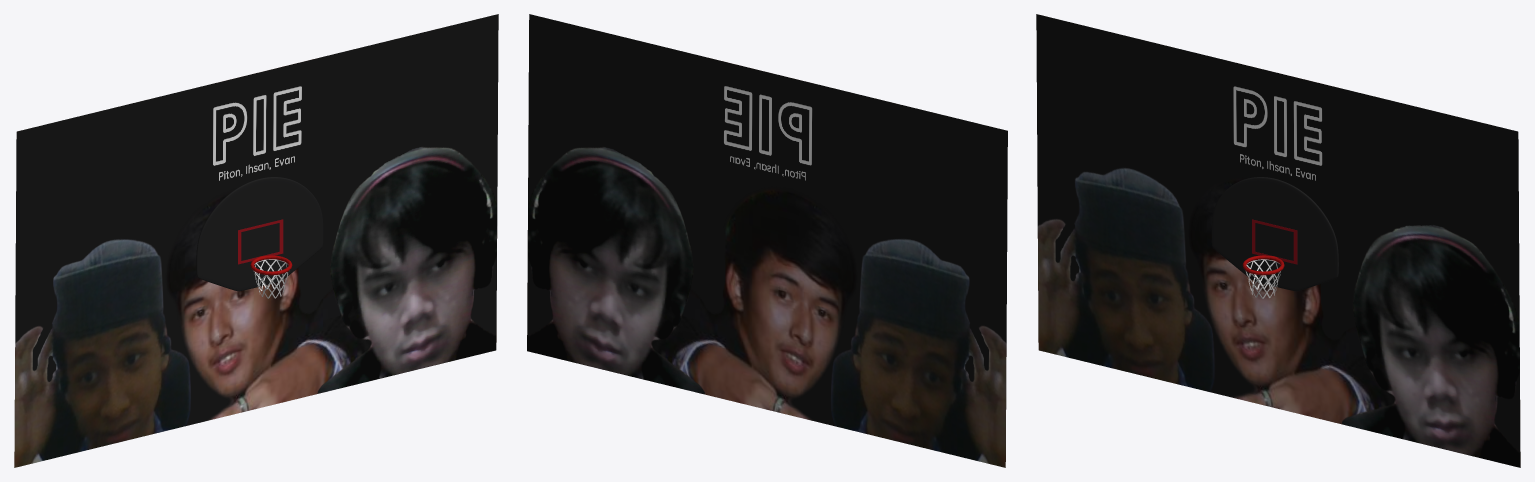
Rendered from ring_tembok_export.fbx.
The picture shows the model from 3 angles, left to right: view 1: azimuth 30°, elevation 25°; view 2: azimuth 150°, elevation 25°; view 3: azimuth 330°, elevation 25°; orthographic projection.
Parts seen in each view (by area): view 1: Plane.001, Circle, Jaring, Plane; view 2: Plane.001; view 3: Plane.001, Circle, Jaring, Plane.
Part boxes in pixels (bbox=[...]): Plane.001: bbox=[14, 14, 498, 467]; Circle: bbox=[196, 177, 323, 291]; Jaring: bbox=[253, 259, 288, 298]; Plane: bbox=[238, 219, 283, 264]; Plane.001: bbox=[527, 14, 1007, 467]; Plane.001: bbox=[1036, 14, 1520, 467]; Circle: bbox=[1211, 177, 1338, 291]; Jaring: bbox=[1246, 259, 1280, 298]; Plane: bbox=[1252, 219, 1297, 264].
Bounding box in the file's own units: 13473 × 9026 × 1278.
